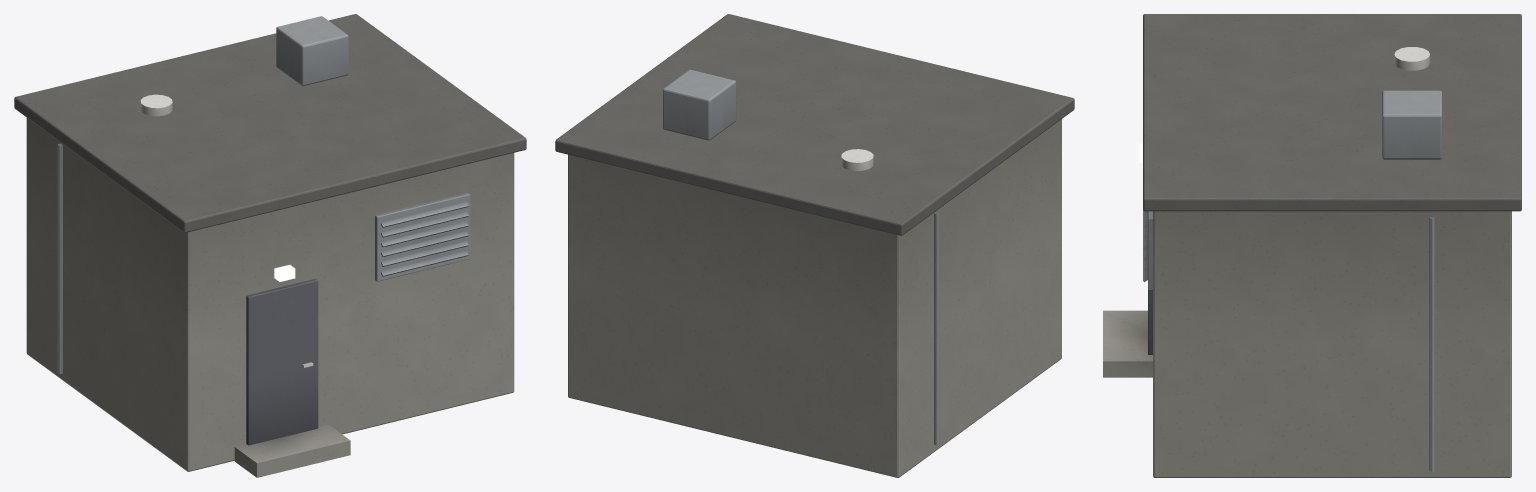
Rendered from roof_liftroom.glb.
3 views of the same model, side by side, from view 1: azimuth 30°, elevation 25°; view 2: azimuth 150°, elevation 25°; view 3: azimuth 270°, elevation 25° (orthographic). The views are drawn at different scales.
Visible parts, largest first — view 1: roof_liftroom_concrete, cap, roof_liftroom_galvanised, door, rooflight; view 2: roof_liftroom_concrete, cap, roof_liftroom_galvanised, rooflight; view 3: roof_liftroom_concrete, cap, roof_liftroom_galvanised, rooflight.
Part boxes in pixels (<box>): roof_liftroom_concrete: <box>26,118,514,477</box>; cap: <box>14,14,526,232</box>; roof_liftroom_galvanised: <box>57,16,470,373</box>; door: <box>246,278,318,445</box>; rooflight: <box>140,94,172,116</box>; roof_liftroom_concrete: <box>568,119,1061,477</box>; cap: <box>555,14,1074,235</box>; roof_liftroom_galvanised: <box>663,69,939,445</box>; rooflight: <box>841,149,873,170</box>; roof_liftroom_concrete: <box>1103,211,1511,477</box>; cap: <box>1143,14,1521,211</box>; roof_liftroom_galvanised: <box>1143,90,1441,471</box>; rooflight: <box>1394,47,1430,70</box>.
Size of what is drawn, in the model's own units: 4.4 by 3.65 by 4.2.
7 materials, 6 textured.
